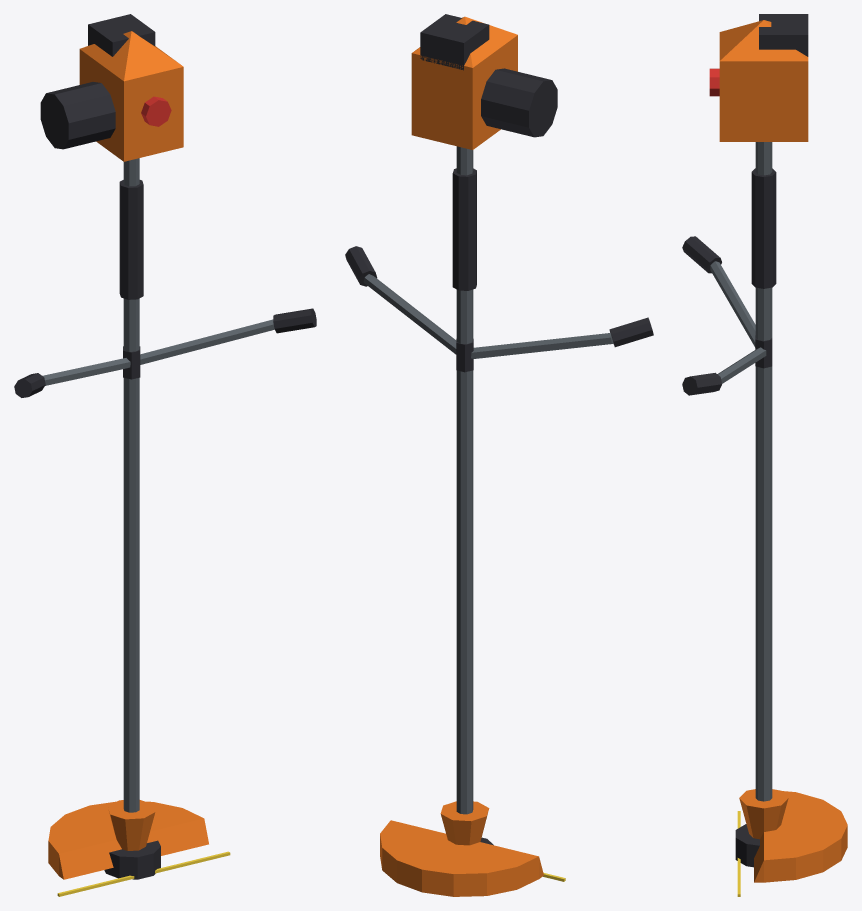
File: desbrozadora.glb
The picture shows the model from 3 angles, left to right: view 1: azimuth 30°, elevation 25°; view 2: azimuth 150°, elevation 25°; view 3: azimuth 270°, elevation 25°; orthographic projection. The views are drawn at different scales.
Visible parts, largest first — view 1: desbrozadora_naranja_motor, desbrozadora_mango_negro, desbrozadora_metal_osc, desbrozadora_amarillo_hilo, desbrozadora_rojo_luz; view 2: desbrozadora_naranja_motor, desbrozadora_metal_osc, desbrozadora_mango_negro; view 3: desbrozadora_naranja_motor, desbrozadora_metal_osc, desbrozadora_mango_negro.
Part boxes in pixels (left/top/right/bottom): desbrozadora_naranja_motor: left=48, top=31, right=208, bottom=879; desbrozadora_mango_negro: left=14, top=14, right=316, bottom=879; desbrozadora_metal_osc: left=42, top=158, right=274, bottom=812; desbrozadora_amarillo_hilo: left=57, top=851, right=230, bottom=896; desbrozadora_rojo_luz: left=141, top=96, right=171, bottom=126; desbrozadora_naranja_motor: left=380, top=16, right=543, bottom=896; desbrozadora_metal_osc: left=363, top=146, right=613, bottom=814; desbrozadora_mango_negro: left=345, top=14, right=653, bottom=845; desbrozadora_naranja_motor: left=719, top=20, right=847, bottom=882; desbrozadora_metal_osc: left=710, top=142, right=772, bottom=801; desbrozadora_mango_negro: left=682, top=14, right=808, bottom=867.
Size of the model in its own units: 0.7048 by 1.87 by 0.3356.
